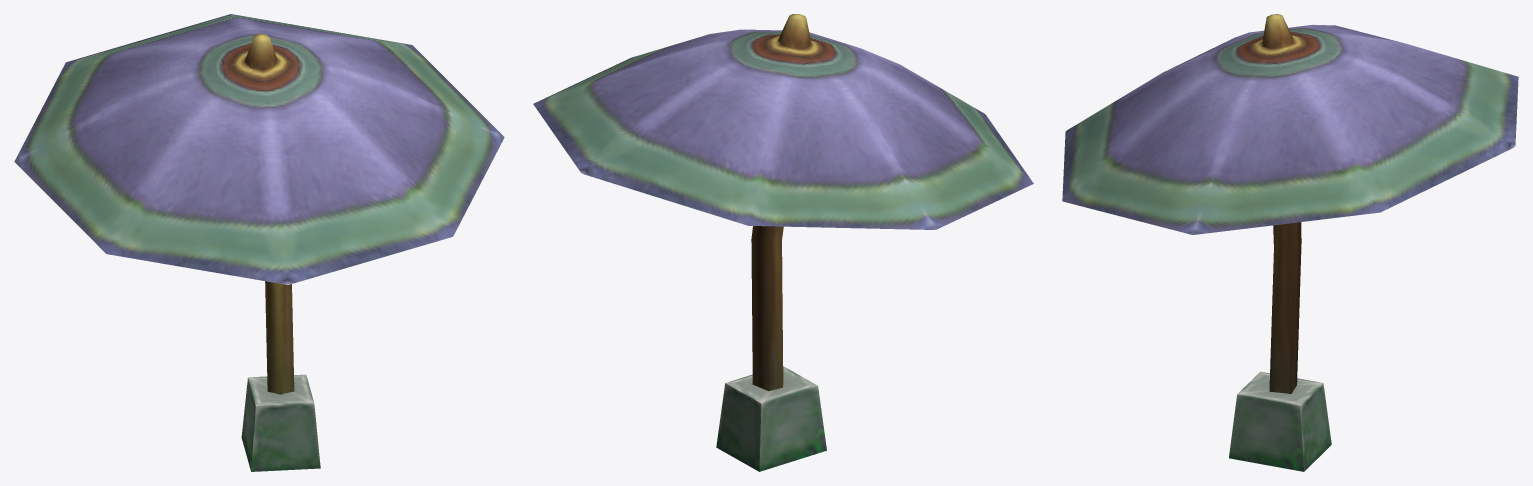
The model's file is san_001.FBX.
3 views of the same model, side by side, from view 1: azimuth 30°, elevation 25°; view 2: azimuth 150°, elevation 25°; view 3: azimuth 270°, elevation 25° (orthographic). The views are drawn at different scales.
Parts seen in each view (by area): view 1: san_001; view 2: san_001; view 3: san_001.
Boxes of the visible parts, <box> form: san_001: <box>14,14,504,471</box>; san_001: <box>533,14,1033,471</box>; san_001: <box>1062,14,1518,471</box>.
Bounding box in the file's own units: 339 × 348 × 338.
Materials: 1 (1 with a texture image).
